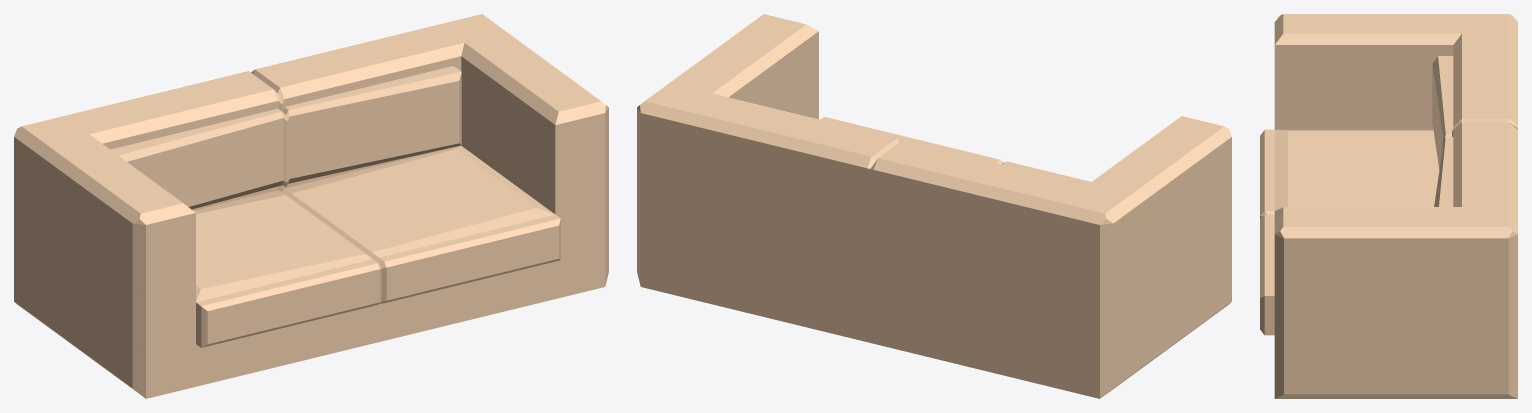
Rendered from Sofa_01_05.fbx.
The picture shows the model from 3 angles, left to right: view 1: azimuth 30°, elevation 25°; view 2: azimuth 150°, elevation 25°; view 3: azimuth 270°, elevation 25°; orthographic projection. The views are drawn at different scales.
Visible parts, largest first — view 1: Sofa_01_05; view 2: Sofa_01_05; view 3: Sofa_01_05.
Part boxes in pixels (x1,y1,x2,y2): Sofa_01_05: (14,14,608,398); Sofa_01_05: (637,14,1231,398); Sofa_01_05: (1260,14,1517,398).
Bounding box in the file's own units: 2.5 × 0.913 × 1.24.
